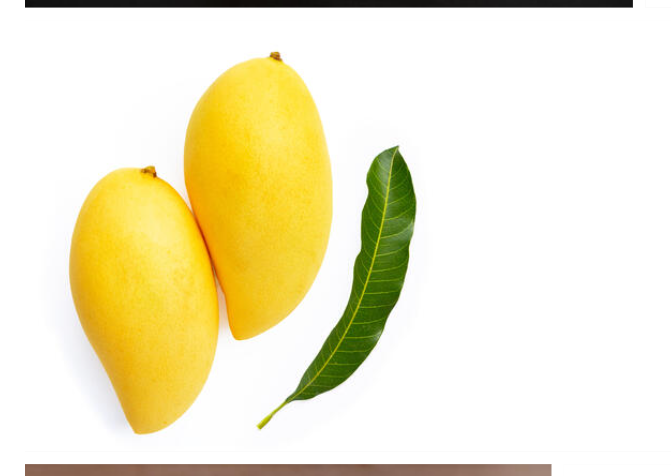mango: (185, 49, 333, 341), (70, 165, 221, 434)
